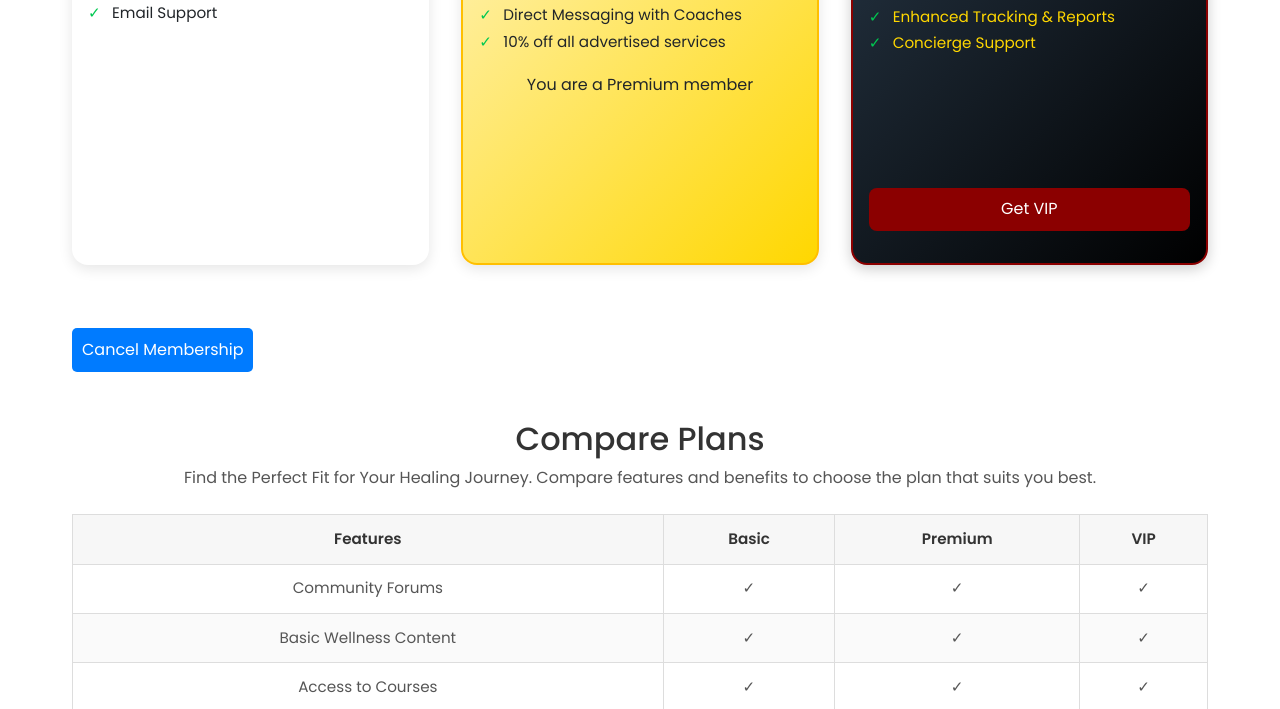
it: Membership Component › canceling membership resets plan to Basic (Standard) and removes the cancel button
(page scrolled)
Click the cancel membership button.
Click the button "Cancel Membership".
click(163, 350)  # box [72,328,254,372]
(page scrolled)
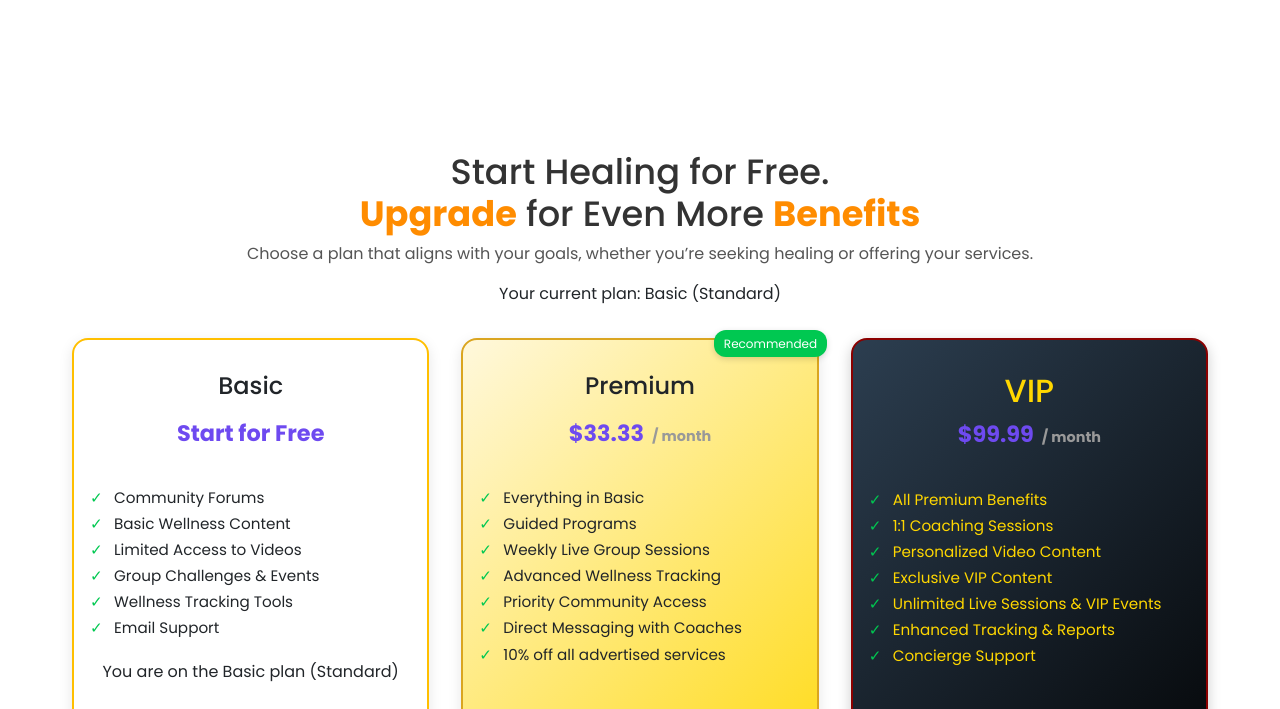
Check: the text "Your current plan: Basic (Standard)" is shown, box [499,282,781,306]
Check: the button "Cancel Membership" is gone
